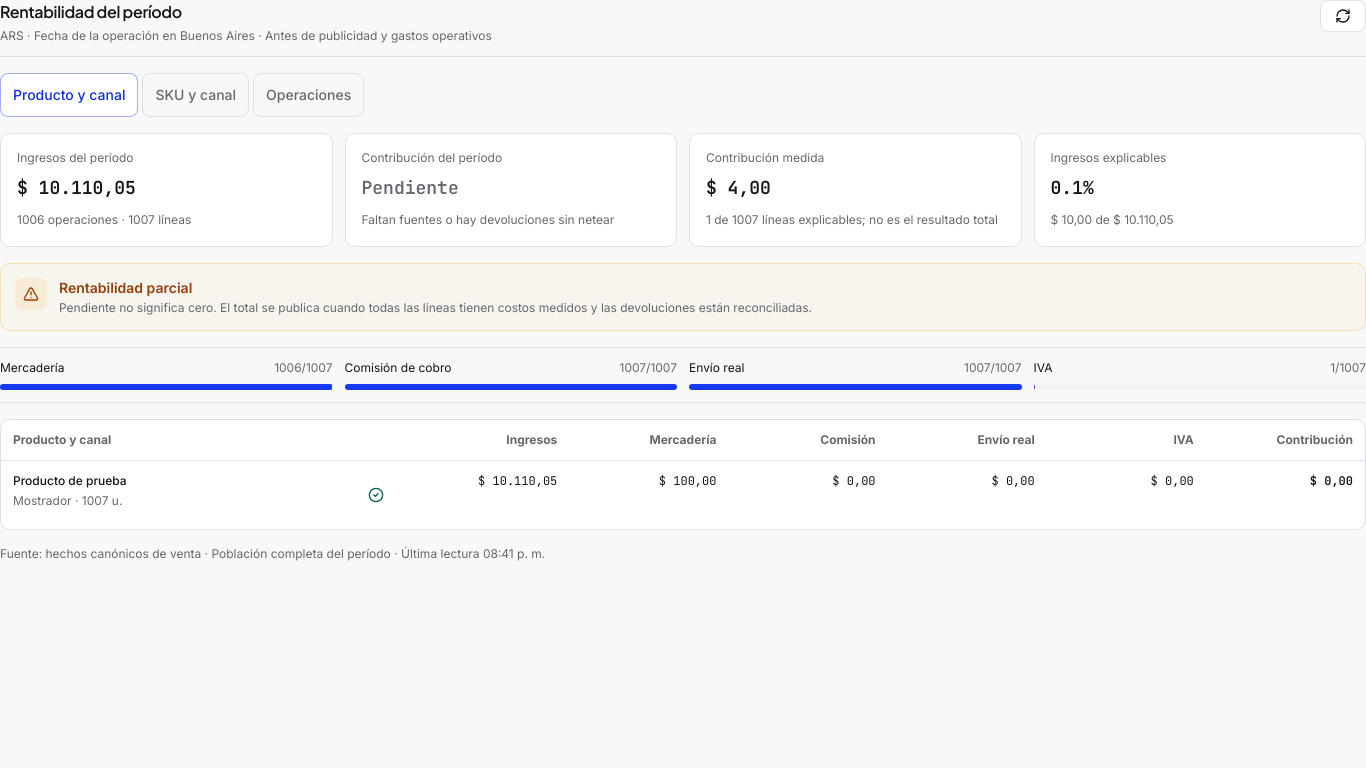
Test: Profit Foundation: period authority and recovery › exposes measured costs and zero contribution in the complete row detail
Click the button named "Ver costos de Producto de prueba". click: (376, 494)
box: [354,472,398,516]
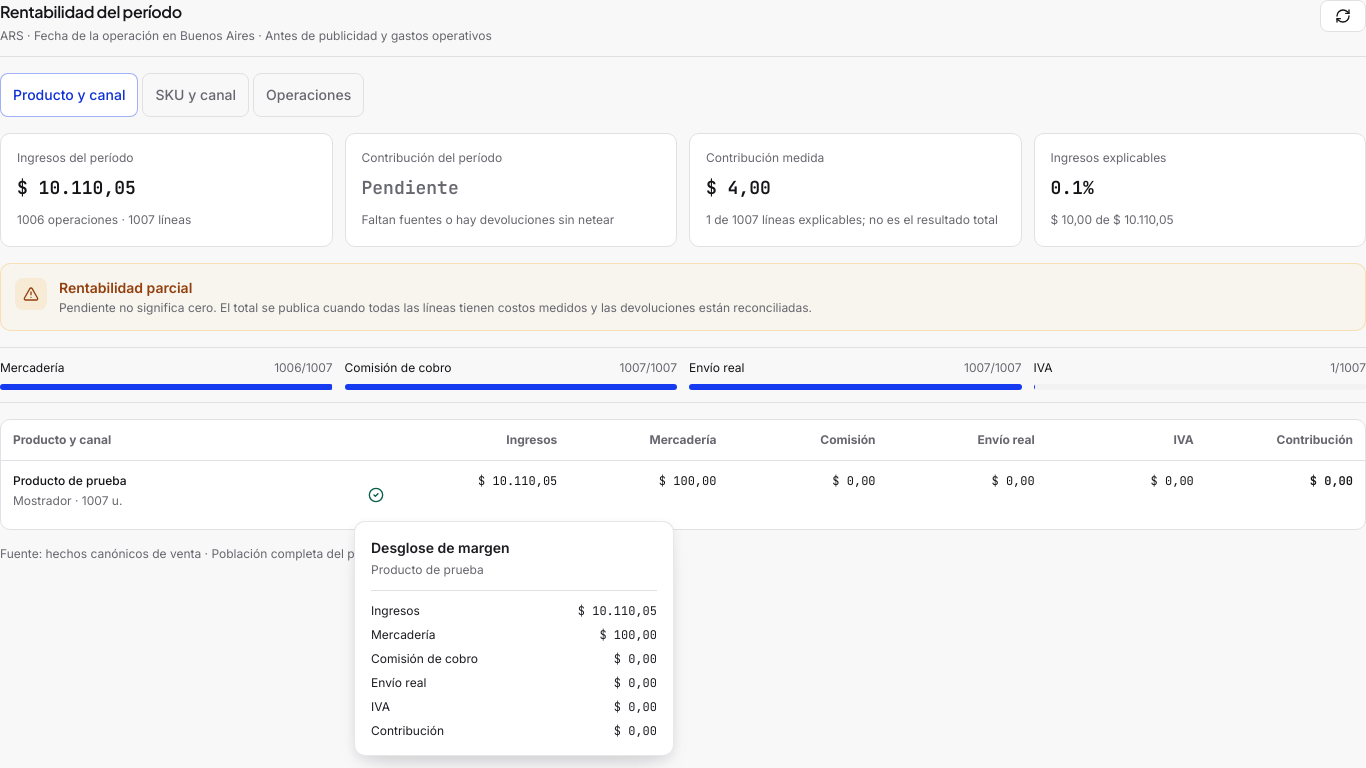
Now the text "Comisión de cobro" below "Desglose de margen" is shown, box [371,651,478,666]
Now the text "Contribución" is shown, box [371,723,444,739]
Now the text "$ 0,00" is shown 4 times, box [614,651,657,667]; [614,675,657,691]; [614,699,657,715]; [614,723,657,739]
